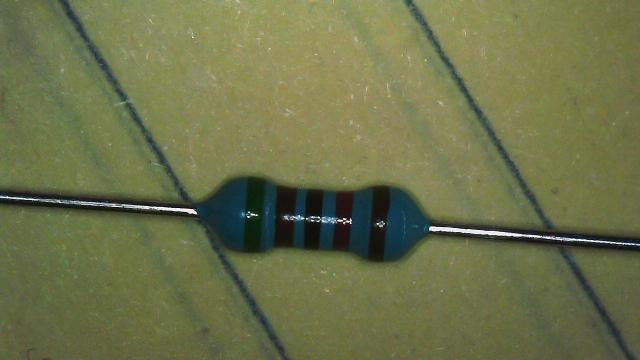black: (303, 188, 322, 249)
brown: (368, 186, 390, 261), (274, 186, 296, 246)
green: (242, 178, 264, 252)
red: (334, 190, 353, 251)
resistor: (195, 166, 432, 277)
